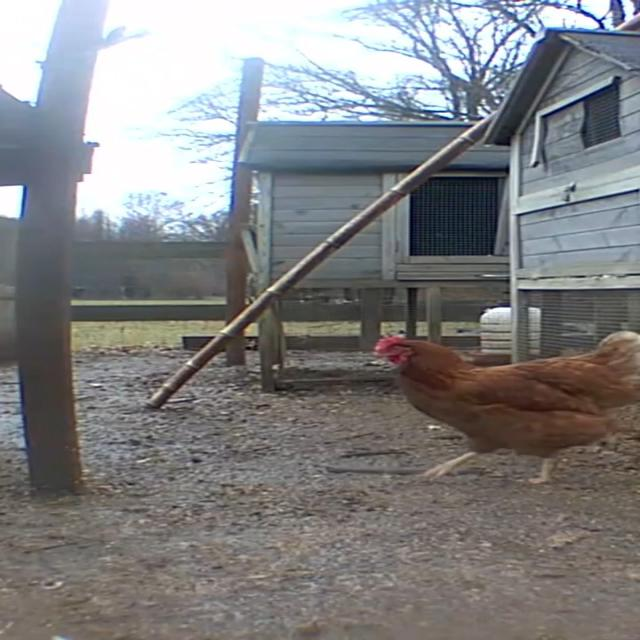walking: (352, 321, 640, 495)
